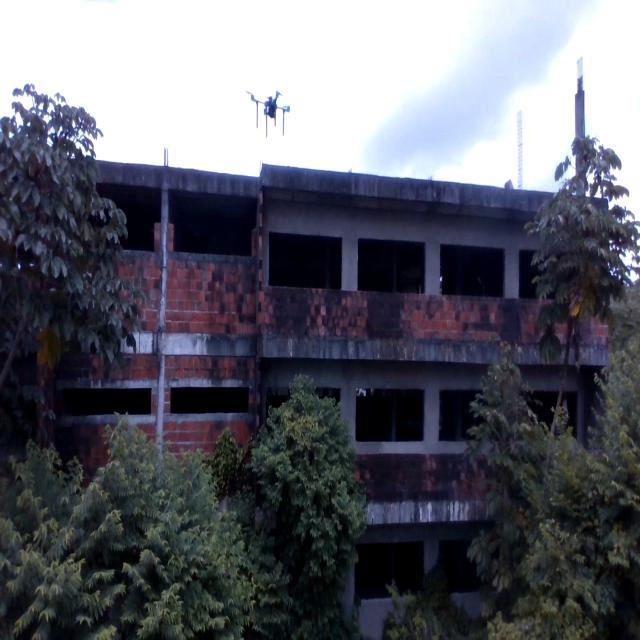-uav-: (242, 65, 298, 148)
